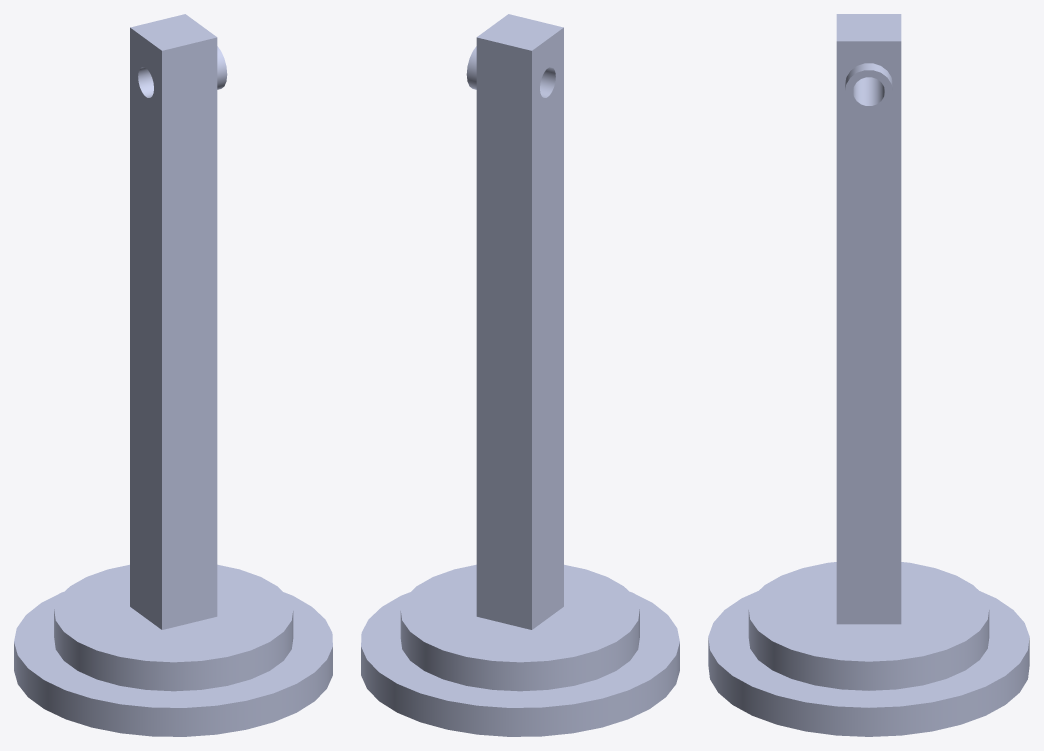
The model's file is rack.fbx.
The picture shows the model from 3 angles, left to right: view 1: azimuth 30°, elevation 25°; view 2: azimuth 150°, elevation 25°; view 3: azimuth 270°, elevation 25°; orthographic projection.
Visible parts, largest first — view 1: 凸台-拉伸7; view 2: 凸台-拉伸7; view 3: 凸台-拉伸7.
Boxes of the visible parts, <box> form: 凸台-拉伸7: <box>14,14,332,736</box>; 凸台-拉伸7: <box>361,14,679,736</box>; 凸台-拉伸7: <box>708,14,1029,736</box>.
Bounding box in the file's own units: 2.36 × 5.2 × 2.36.
